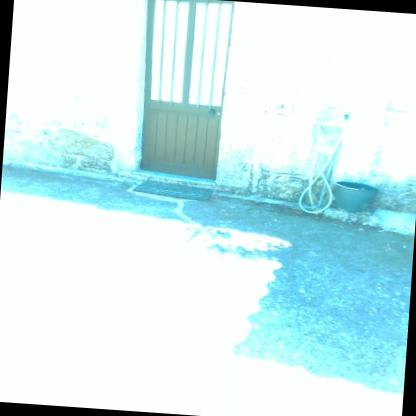closed: (111, 0, 252, 194)
